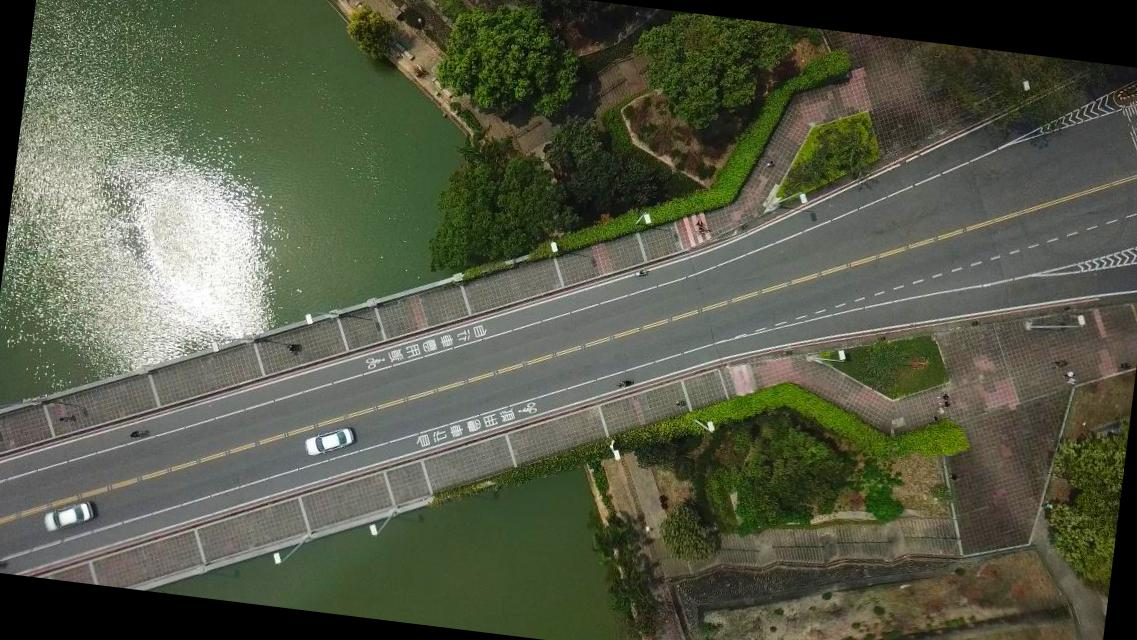vehicle: (42, 494, 96, 538), (302, 422, 357, 461)
